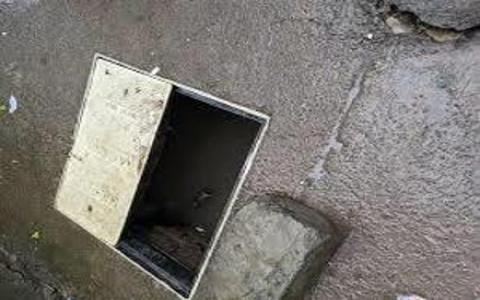open manhole: (115, 83, 273, 294)
